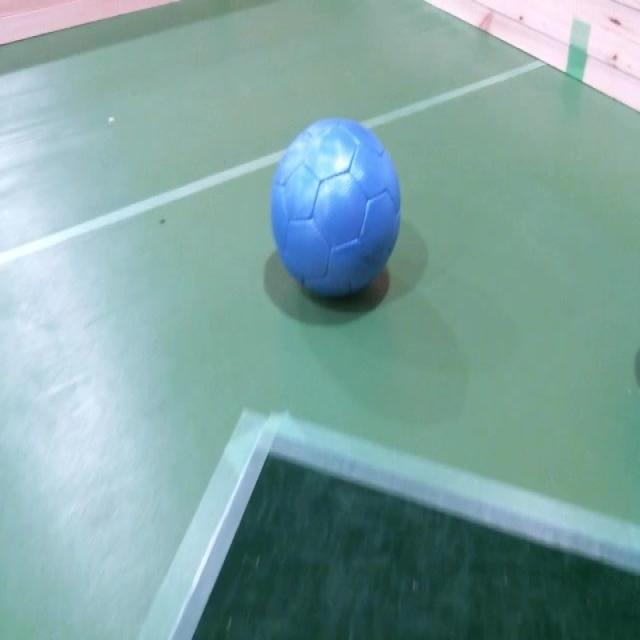blue_ball: (272, 117, 403, 300)
